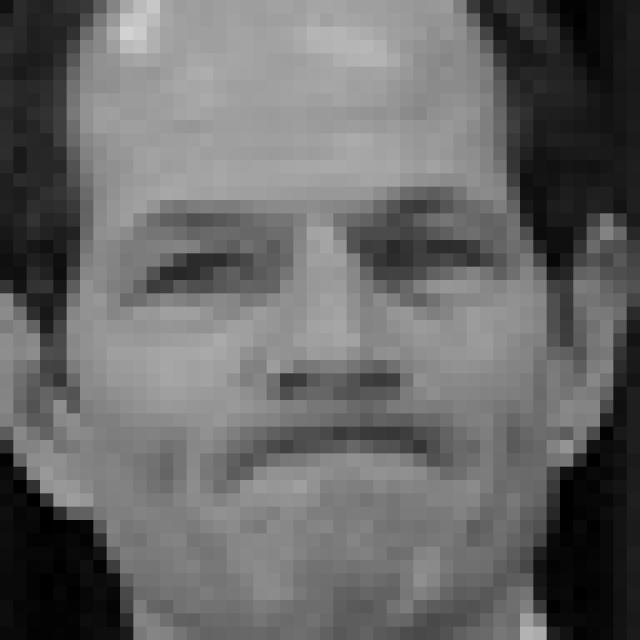sad: (118, 189, 512, 512)
